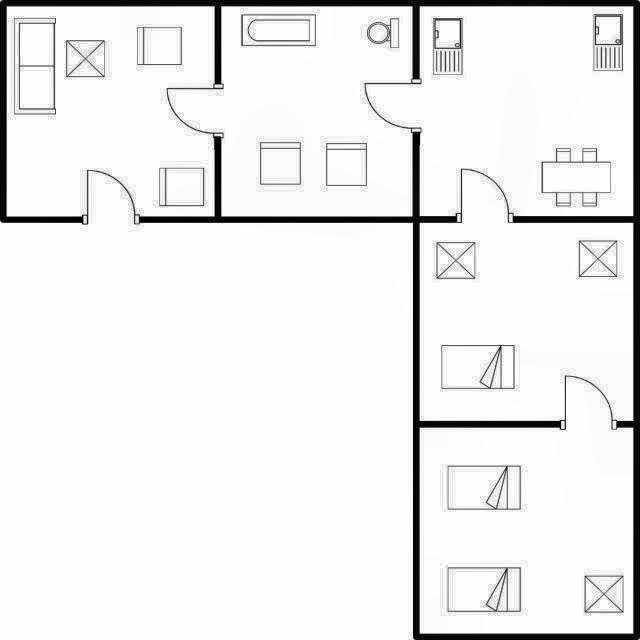room: (420, 6, 633, 216), (7, 6, 215, 217), (420, 428, 633, 634), (420, 223, 633, 421), (221, 6, 412, 217)
